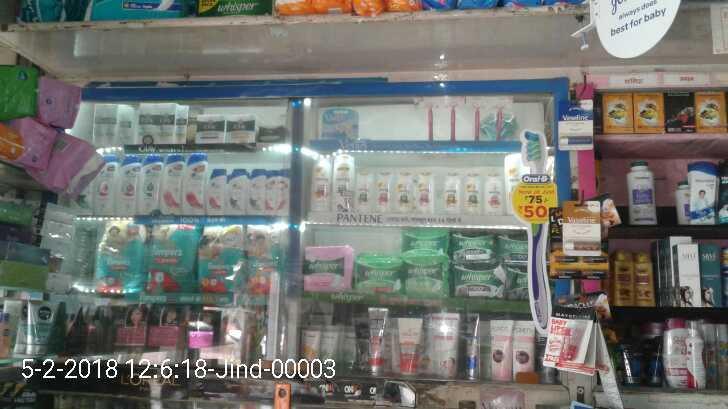venus: (320, 109, 359, 140), (468, 98, 484, 143), (492, 98, 508, 142), (447, 96, 462, 140), (426, 101, 439, 141)
